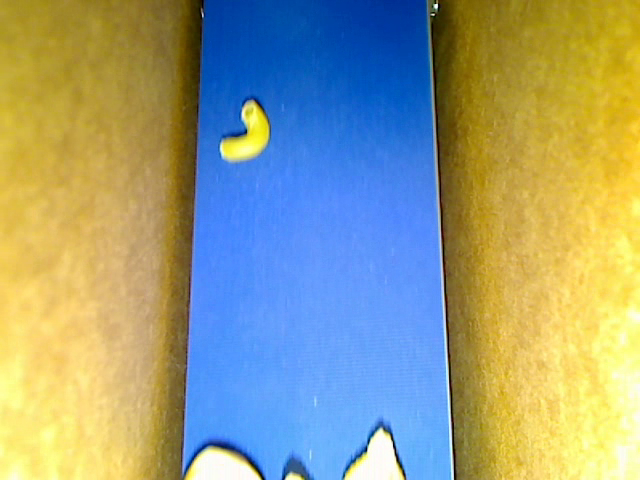elbow: (220, 100, 269, 160)
shell: (342, 425, 405, 479)
